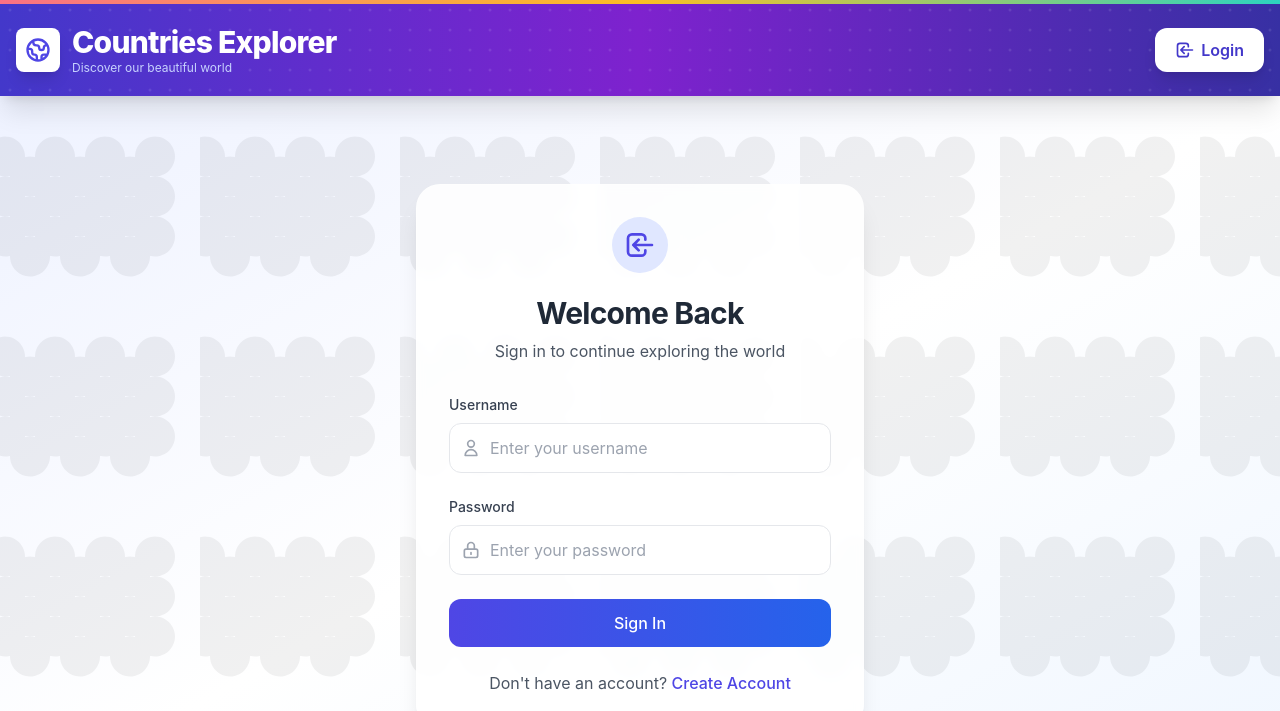
Test case: Authentication Tests › should show error message with invalid credentials
Note: Fill in the login form with invalid credentials
In the field with placeholder "Enter your username": {"x": 640, "y": 448} x1=449 y1=423 x2=831 y2=473, type "wronguser"
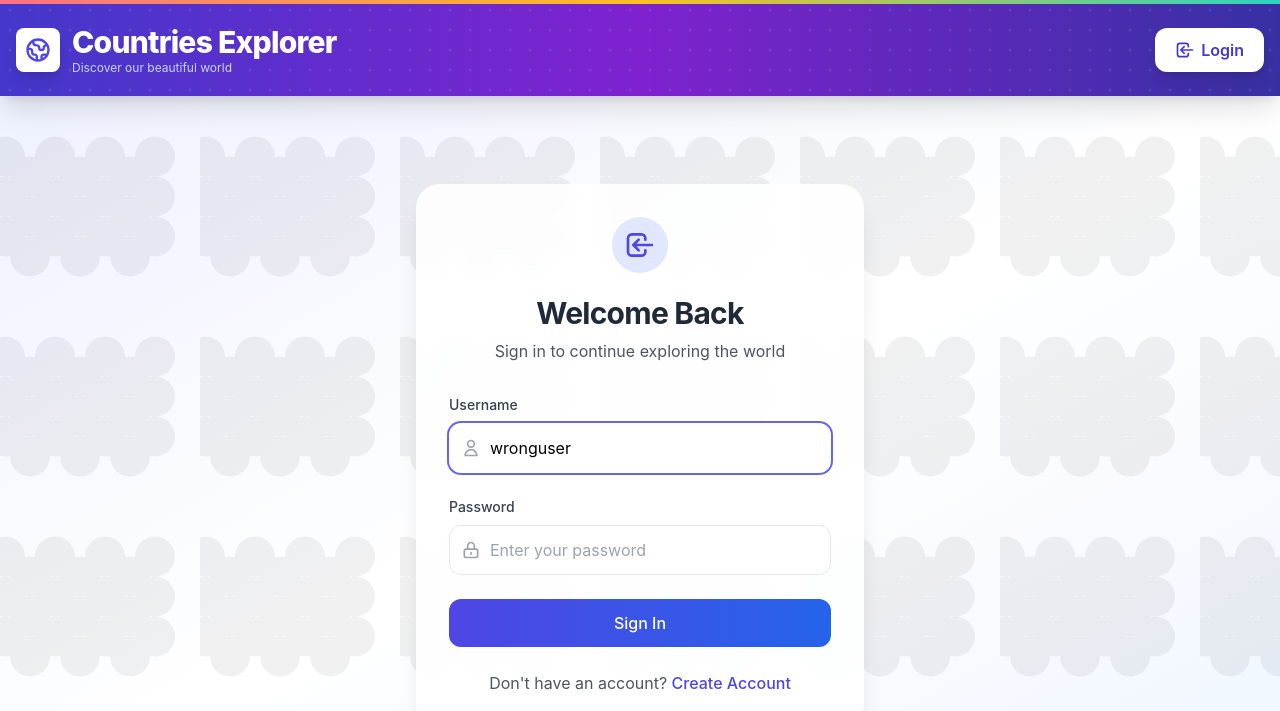
In the password field with placeholder "Enter your password": {"x": 640, "y": 550} x1=449 y1=525 x2=831 y2=575, type "wrongpass"
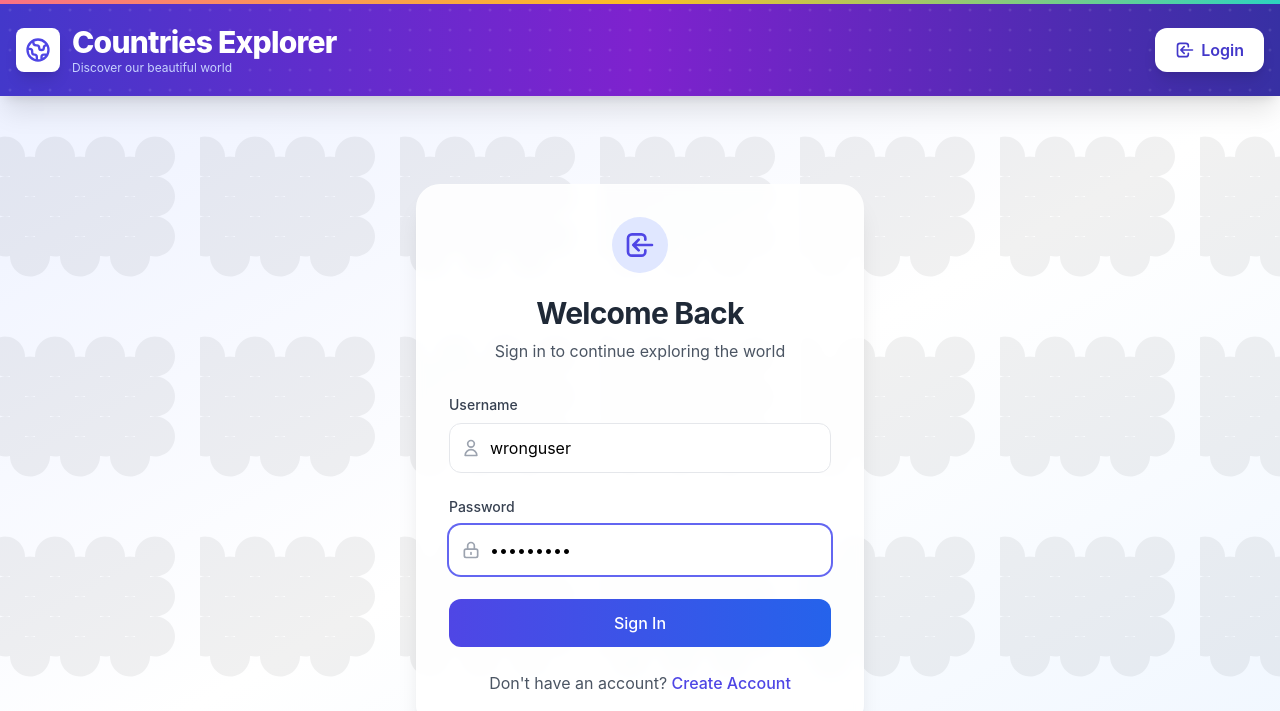
Note: Submit the form
Click the button "Sign In": {"x": 640, "y": 623} x1=449 y1=599 x2=831 y2=647
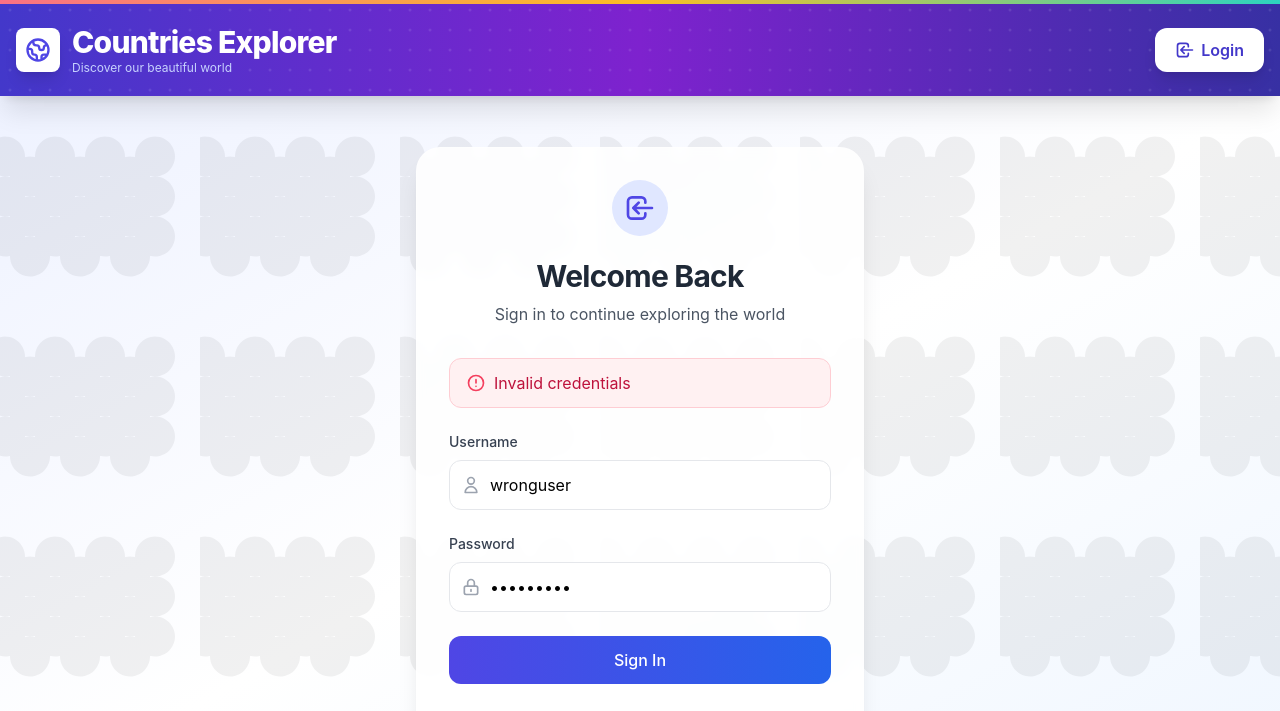
Now the text "Invalid credentials" is shown, box x1=494 y1=371 x2=631 y2=395
